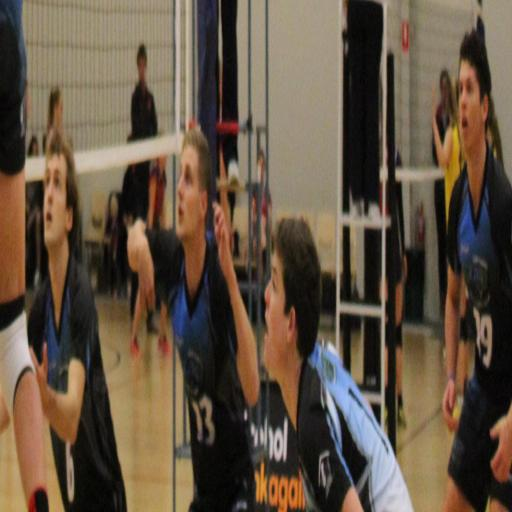person: (129, 128, 259, 510), (264, 219, 412, 511), (29, 131, 126, 511), (443, 30, 511, 511), (0, 0, 48, 511), (432, 83, 462, 230), (26, 181, 43, 288), (435, 179, 447, 320), (43, 87, 63, 152), (131, 292, 143, 355)
